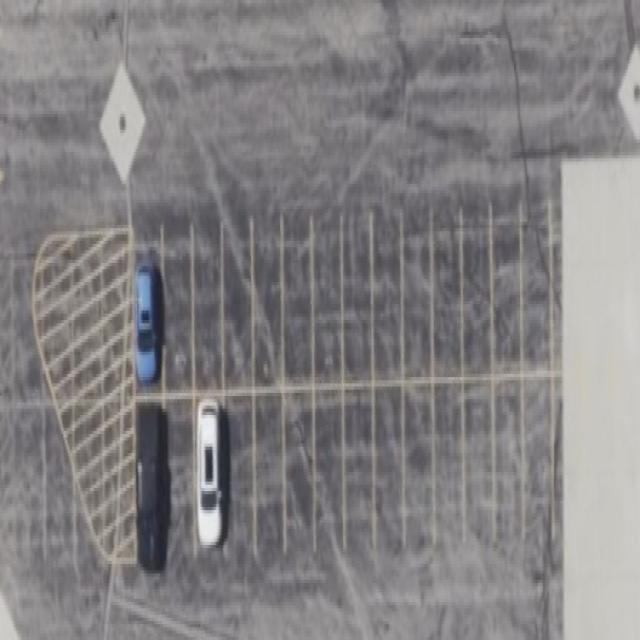Empty: (282, 218, 314, 388), (163, 229, 195, 393), (522, 374, 554, 538), (222, 218, 252, 392), (403, 207, 433, 381), (253, 217, 283, 389), (343, 212, 373, 384), (462, 206, 492, 378), (224, 394, 256, 554), (372, 214, 402, 382), (434, 377, 464, 545), (374, 383, 404, 549), (344, 386, 374, 550), (464, 378, 494, 542), (433, 207, 461, 381), (313, 388, 343, 550), (493, 204, 521, 376), (403, 382, 432, 546), (194, 222, 222, 390), (314, 218, 342, 386), (522, 204, 550, 372), (493, 378, 522, 538), (166, 394, 194, 558), (256, 391, 284, 554), (286, 388, 314, 548)
Parked: (193, 392, 224, 556), (136, 398, 166, 566), (132, 235, 164, 392)
